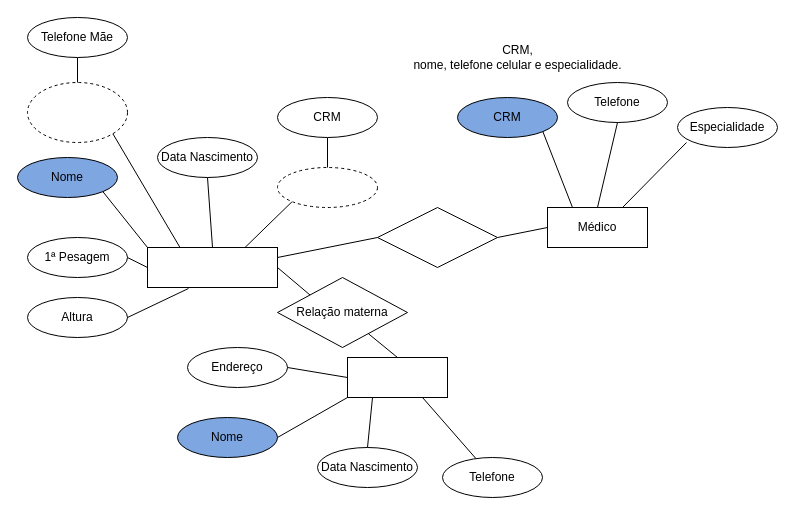
This 795x515 diagram has some shape labels left out. The shapes that lost their labels are listed below. From the top down, each one's centre as x and y in pixels, then its label:
At (77,112): "Nome Mãe".
At (327,187): "Nome Médico".
At (437,237): "Bebê/Médico".
At (212,267): "Bebê".
At (397,377): "Mãe recem-nascido".
